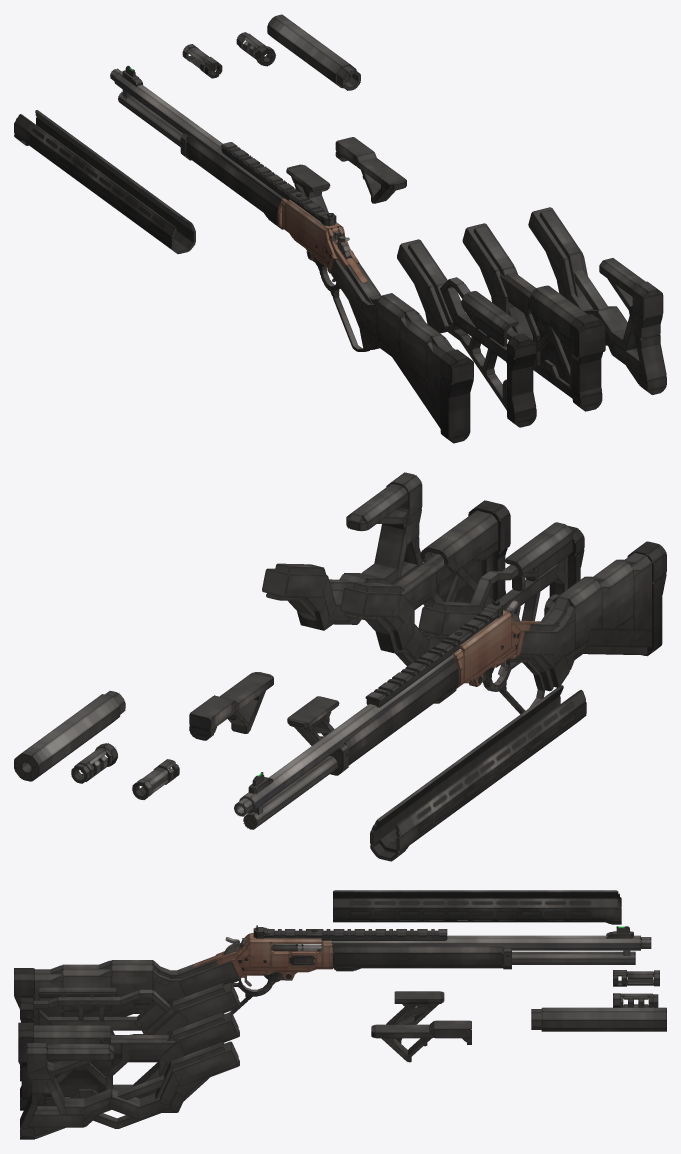
The model's file is marlin 1895-thumper v2_1.obj.
3 views of the same model, one above another, from view 1: azimuth 30°, elevation 25°; view 2: azimuth 150°, elevation 25°; view 3: azimuth 270°, elevation 25° (orthographic). The views are drawn at different scales.
Parts seen in each view (by area): view 1: cube, octagon; view 2: cube, octagon; view 3: cube, octagon.
Part boxes in pixels (x1,y1,x2,y2): cube: (14, 65, 666, 443); octagon: (110, 14, 360, 244); cube: (189, 472, 666, 861); octagon: (14, 600, 508, 829); cube: (14, 890, 633, 1139); octagon: (239, 925, 666, 1031).
Bounding box in the file's own units: 1.54 × 0.6083 × 2.93.
